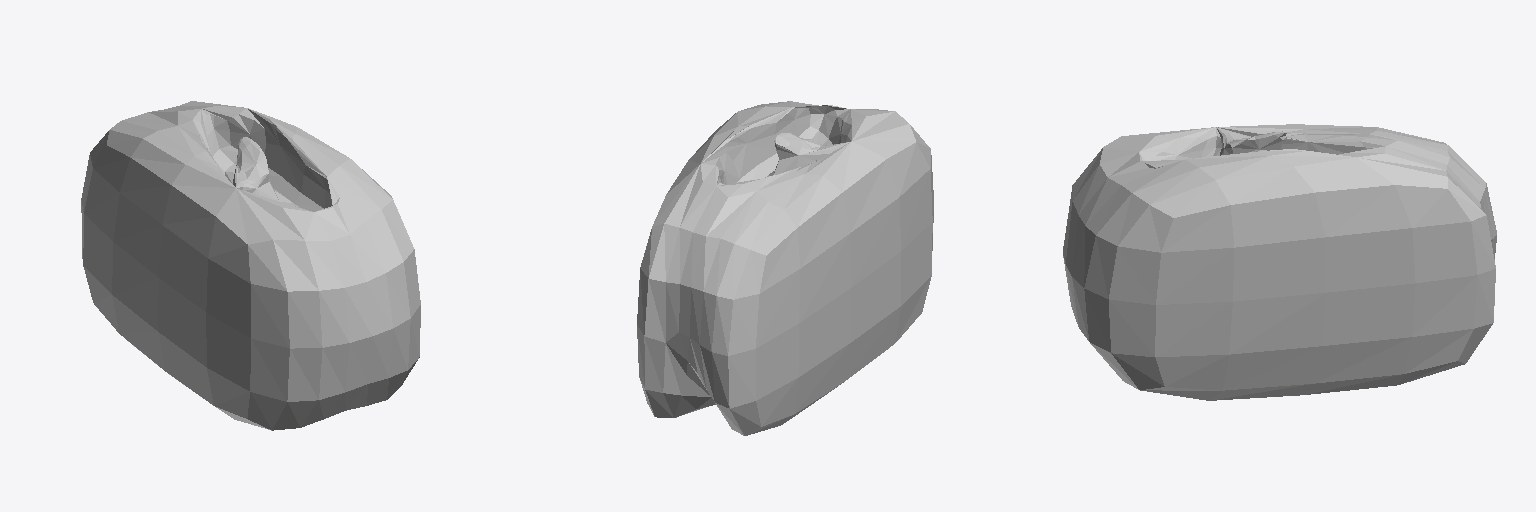
File: Rune1.obj
3 views of the same model, side by side, from view 1: azimuth 30°, elevation 25°; view 2: azimuth 150°, elevation 25°; view 3: azimuth 270°, elevation 25° (orthographic).
Parts seen in each view (by area): view 1: Rune1; view 2: Rune1; view 3: Rune1.
Part boxes in pixels (x1,y1,x2,y2): Rune1: (81,101,420,430); Rune1: (637,101,933,435); Rune1: (1063,124,1496,400).
Size of the model in its own units: 4.46 by 5.61 by 9.19.